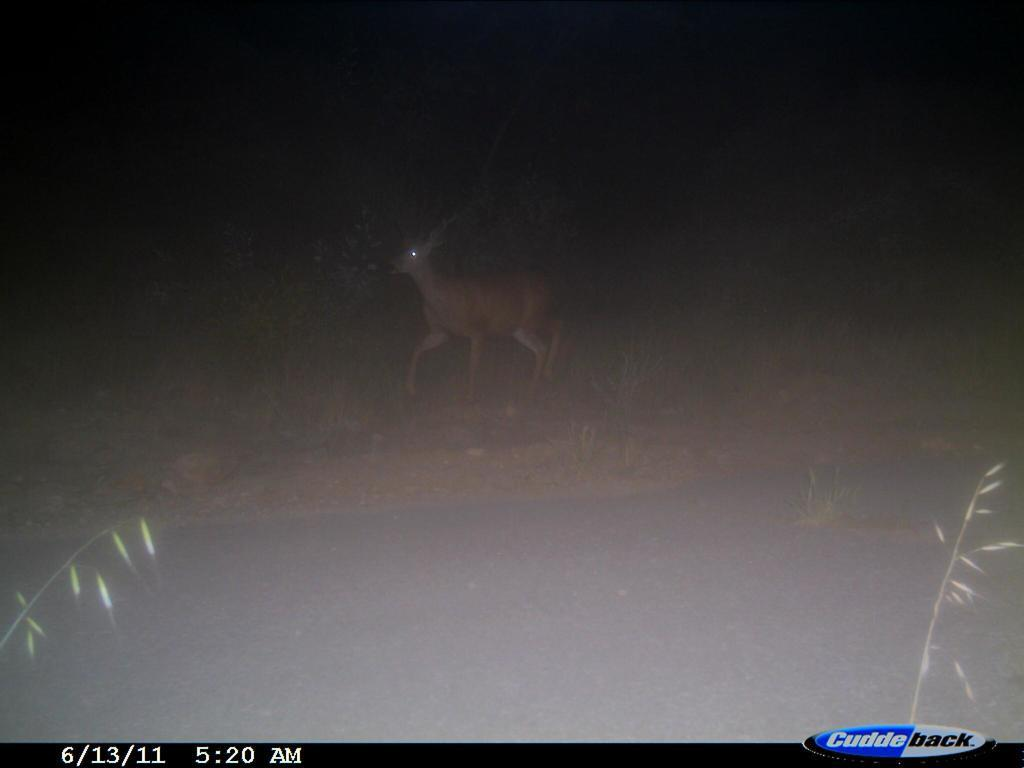deer: (383, 214, 568, 401)
